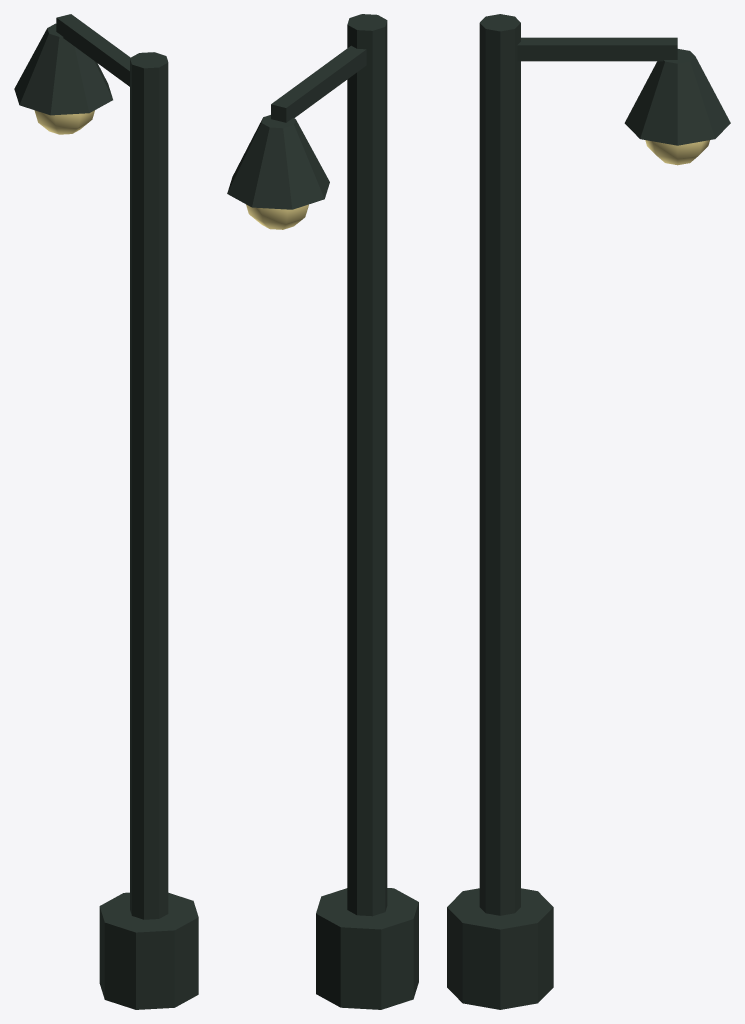
File: street_lamp.glb
3 views of the same model, side by side, from view 1: azimuth 30°, elevation 25°; view 2: azimuth 150°, elevation 25°; view 3: azimuth 270°, elevation 25° (orthographic). The views are drawn at different scales.
Visible parts, largest first — view 1: Cylinder; view 2: Cylinder; view 3: Cylinder.
Boxes of the visible parts, x1,y1,x2,y2 form: Cylinder: [14, 14, 198, 1009]; Cylinder: [227, 14, 418, 1009]; Cylinder: [447, 14, 730, 1009].
Bounding box in the file's own units: 0.36 × 3.6 × 0.96.
